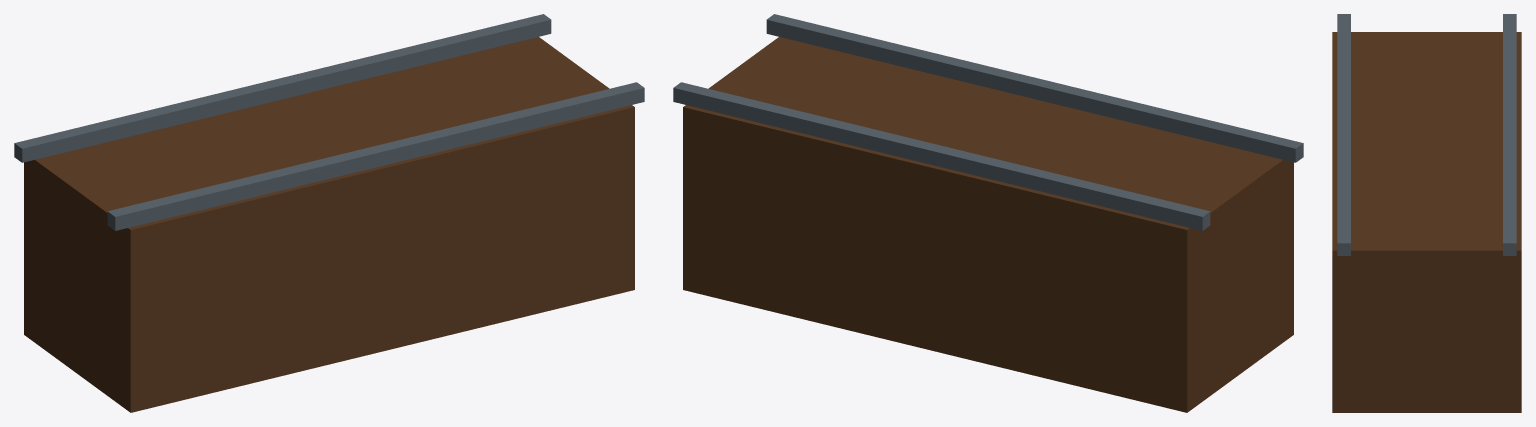
File: cover.half_crate.glb
The picture shows the model from 3 angles, left to right: view 1: azimuth 30°, elevation 25°; view 2: azimuth 150°, elevation 25°; view 3: azimuth 270°, elevation 25°; orthographic projection. The views are drawn at different scales.
Parts seen in each view (by area): view 1: crate_cover, steel_band_a, steel_band_b; view 2: crate_cover, steel_band_b, steel_band_a; view 3: crate_cover, steel_band_a, steel_band_b.
Boxes of the visible parts, box(x1,y1,x2,y2) form: crate_cover: box(24, 37, 634, 412); steel_band_a: box(14, 14, 551, 162); steel_band_b: box(107, 82, 644, 230); crate_cover: box(683, 37, 1293, 412); steel_band_b: box(766, 14, 1303, 162); steel_band_a: box(673, 82, 1210, 230); crate_cover: box(1332, 32, 1521, 412); steel_band_a: box(1503, 14, 1516, 255); steel_band_b: box(1337, 14, 1350, 255).
Size of the model in its own units: 3.15 by 1.12 by 1.1.
